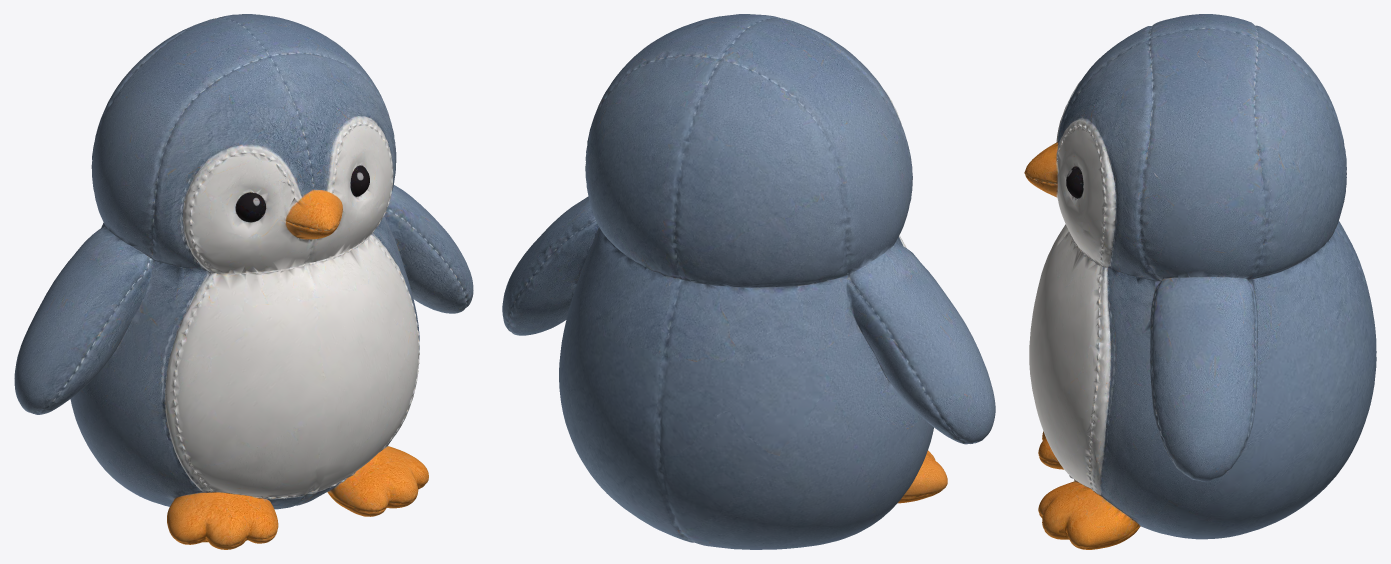
The model's file is penguin.glb.
3 views of the same model, side by side, from view 1: azimuth 30°, elevation 25°; view 2: azimuth 150°, elevation 25°; view 3: azimuth 270°, elevation 25° (orthographic). The views are drawn at different scales.
Parts seen in each view (by area): view 1: Mesh_0; view 2: Mesh_0; view 3: Mesh_0.
Boxes of the visible parts, x1,y1,x2,y2 form: Mesh_0: (14,14,473,549); Mesh_0: (502,14,995,549); Mesh_0: (1024,14,1376,549).
Bounding box in the file's own units: 0.7299 × 0.7 × 0.4804.
1 material, 1 textured.
